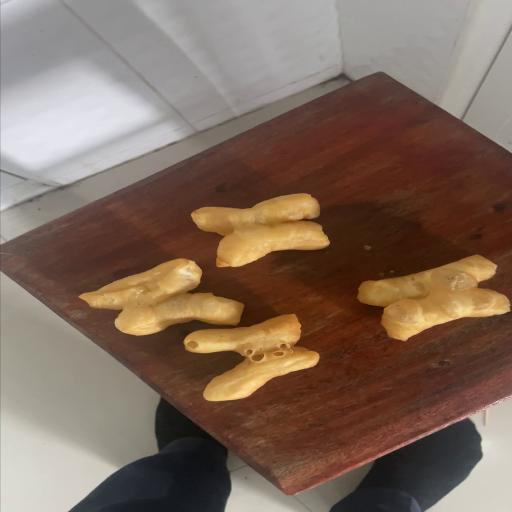street_golden_defect: (356, 255, 510, 339), (81, 260, 244, 334), (179, 316, 320, 400)
street_golden_good: (190, 194, 332, 267)
